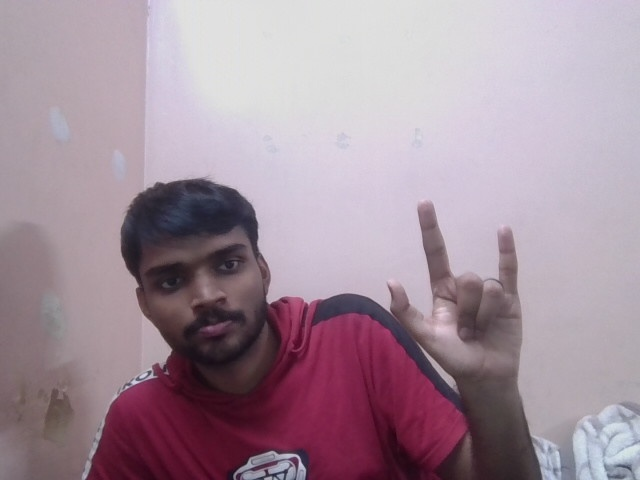I Love You: (388, 191, 528, 376)
